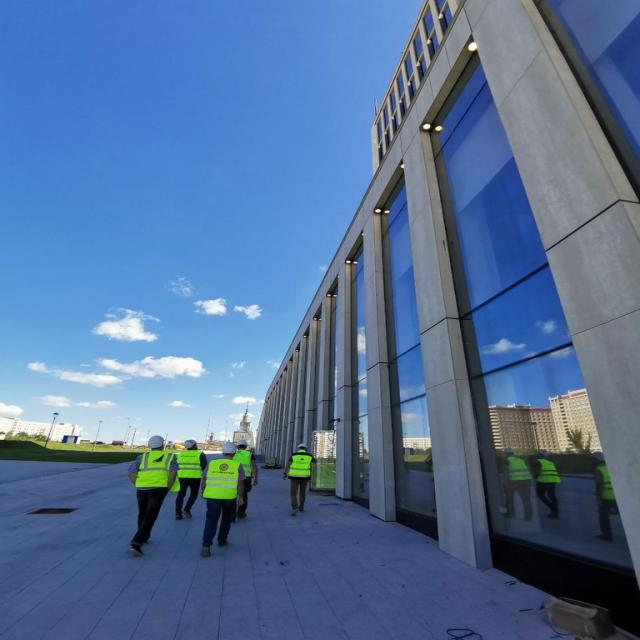Helmet: (148, 436, 167, 450), (222, 443, 238, 456), (185, 440, 199, 451), (237, 441, 249, 449), (298, 445, 309, 451)
Jacket: (208, 456, 242, 500), (141, 450, 177, 489), (179, 450, 204, 479), (290, 450, 312, 479), (240, 450, 253, 476)
